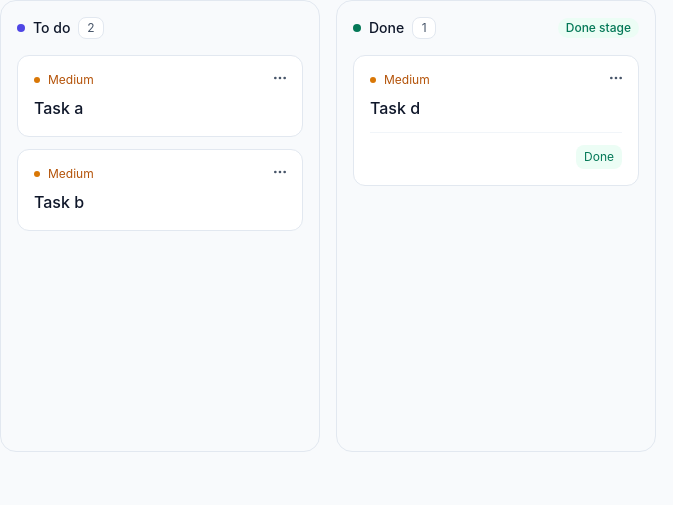
Scenario: KanbanBoard moves from the menu › clears old errors when a new move starts with nothing in flight
Click the button named "Move options for Task a" at (280, 78), box [266,64,294,92]
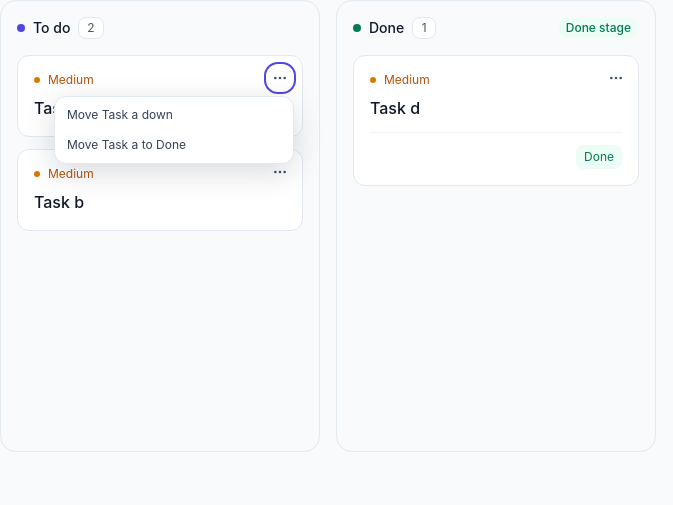
Click the button "Move Task a down" at (174, 115), box [59,101,289,129]
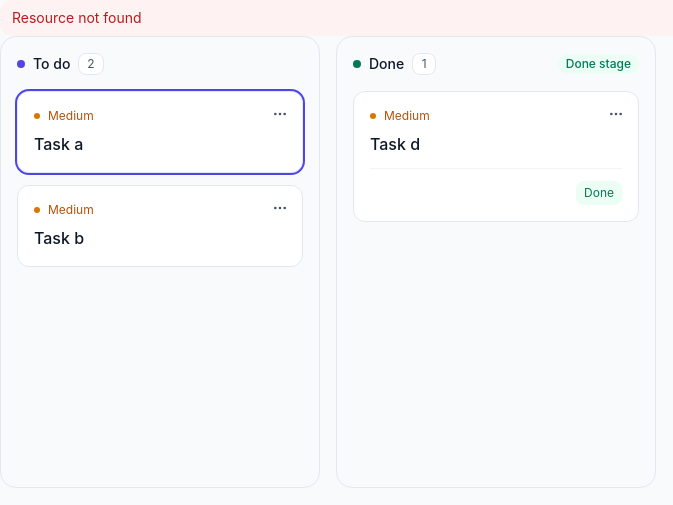
Expected: the message named "Board updates" reads "Resource not found", [12,9,142,26]
Click the button named "Move options for Task a" at (280, 114), box [266,100,294,128]
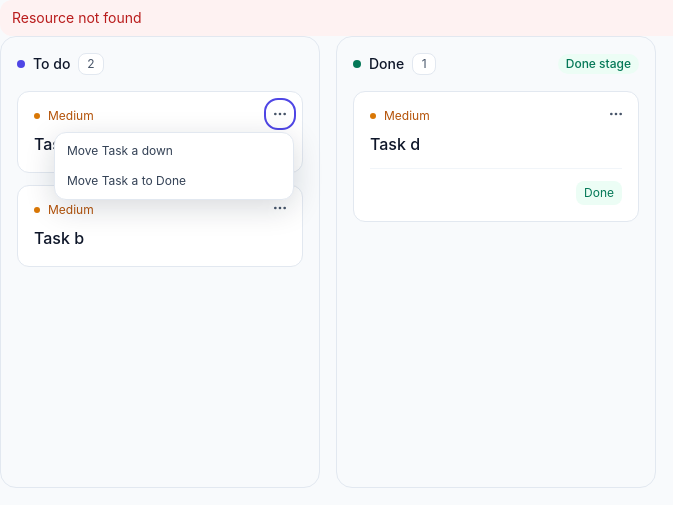
Click the button "Move Task a down" at (174, 151), box [59,137,289,165]
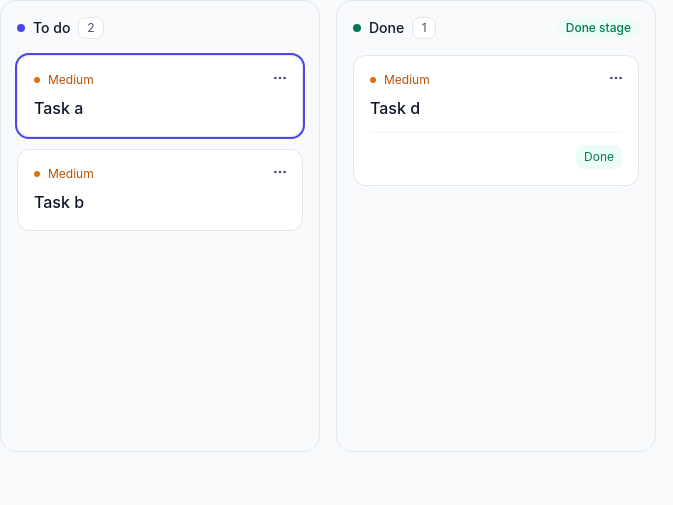
Expected: the text "Resource not found" is gone
